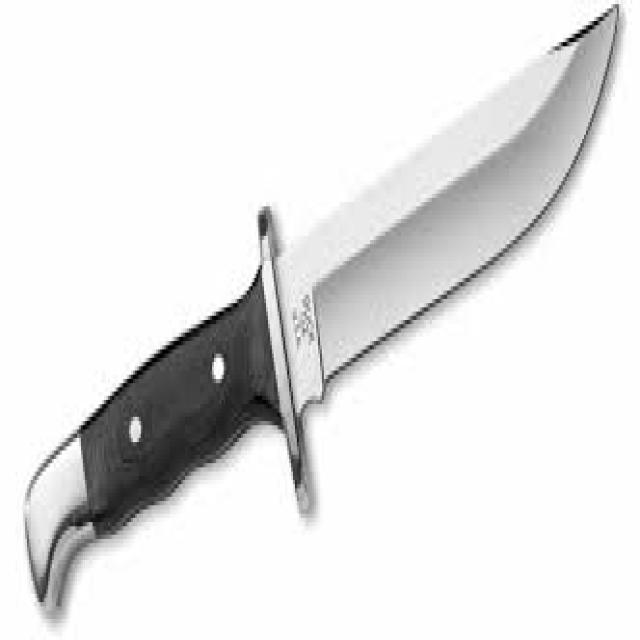knife: (14, 3, 629, 627)
